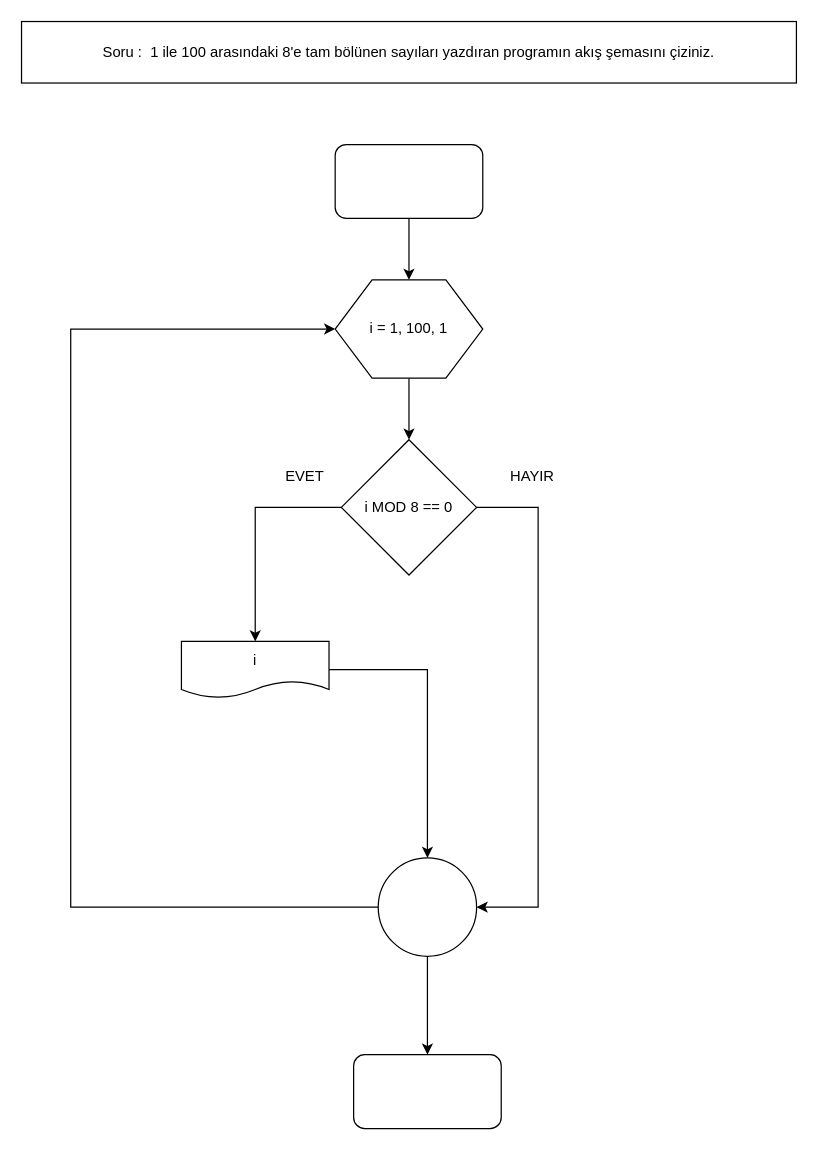
The diagram is 818 pixels wide and 1150 high, and some of its shapes have lost their labels. Here are the shapes that lost their labels. From the top down, the centre of each, then its label:
At [408,180]: "BAŞLA".
At [426,1091]: "SON".
